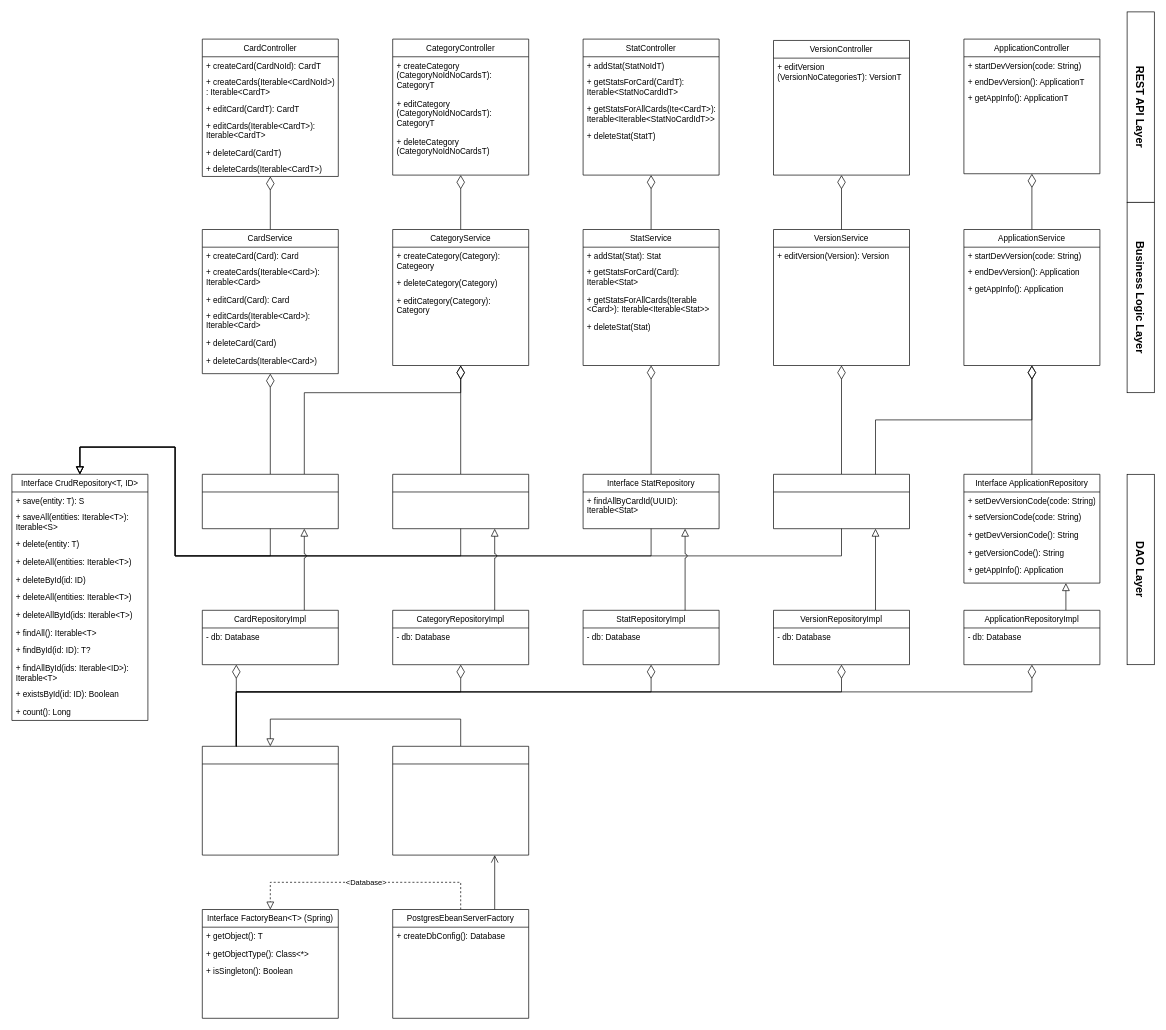
Some shapes in this 1166 by 1030 pixel diagram are drawn without their labels. Here are the shapes that lost their labels. From the top down, the centre of each, then its label:
the point at 270,501: Interface CardRepository
the point at 460,501: Interface CategoryRepository
the point at 841,501: Interface VersionRepository
the point at 270,800: Interface Database(EBean)
the point at 460,800: PostgresDatabase
